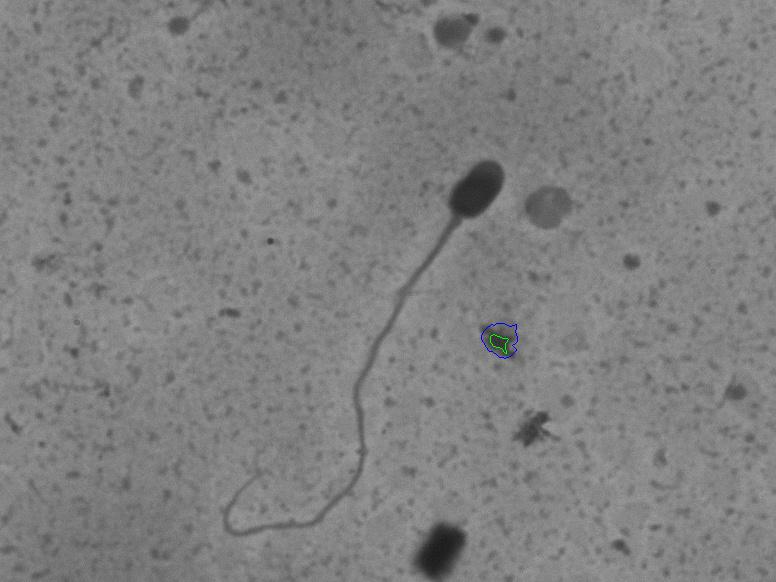Abnormal: (194, 124, 514, 546)
